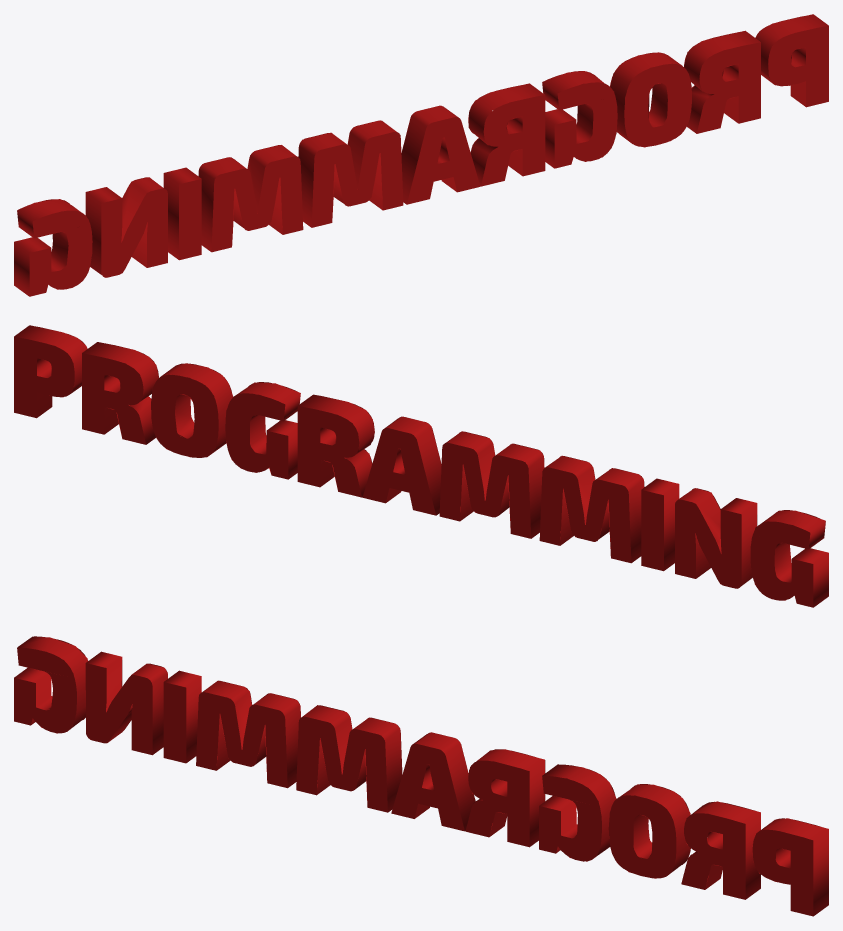
Rendered from programming.fbx.
The picture shows the model from 3 angles, top to bottom: view 1: azimuth 30°, elevation 25°; view 2: azimuth 150°, elevation 25°; view 3: azimuth 330°, elevation 25°; orthographic projection.
Parts seen in each view (by area): view 1: Text; view 2: Text; view 3: Text.
Part boxes in pixels (left/top/right/bottom): Text: left=14, top=14, right=828, bottom=296; Text: left=14, top=325, right=828, bottom=607; Text: left=14, top=636, right=828, bottom=916.
Bounding box in the file's own units: 23.8 × 2.27 × 0.8001.
